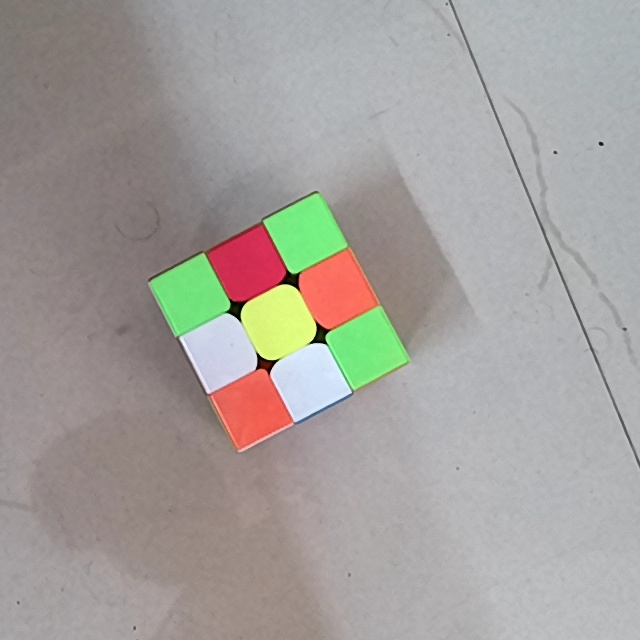tile: (255, 300, 303, 344), (198, 329, 246, 372), (315, 267, 358, 313), (286, 356, 334, 397), (223, 244, 268, 287), (230, 387, 275, 428), (282, 212, 325, 254), (345, 325, 389, 366), (167, 272, 210, 313)
